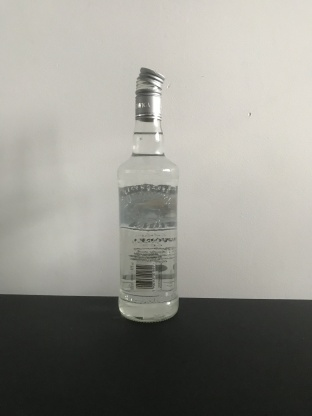nakretka: (133, 64, 166, 122)
